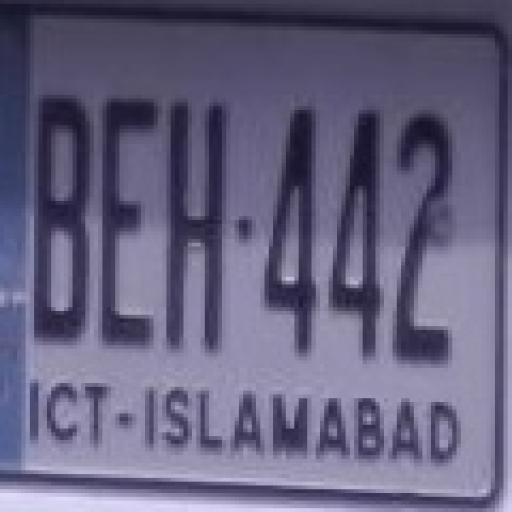2: (390, 102, 461, 368)
4: (255, 91, 326, 358), (334, 107, 385, 366)
B: (30, 93, 88, 336)
E: (94, 94, 160, 352)
H: (168, 91, 228, 364)
